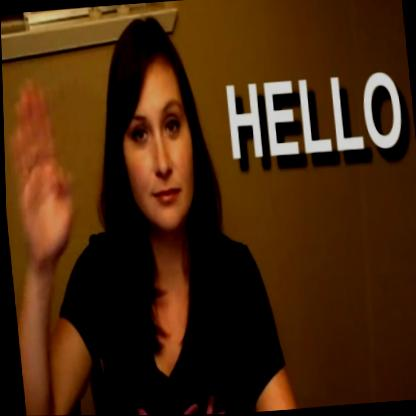Hello: (0, 0, 222, 416)
